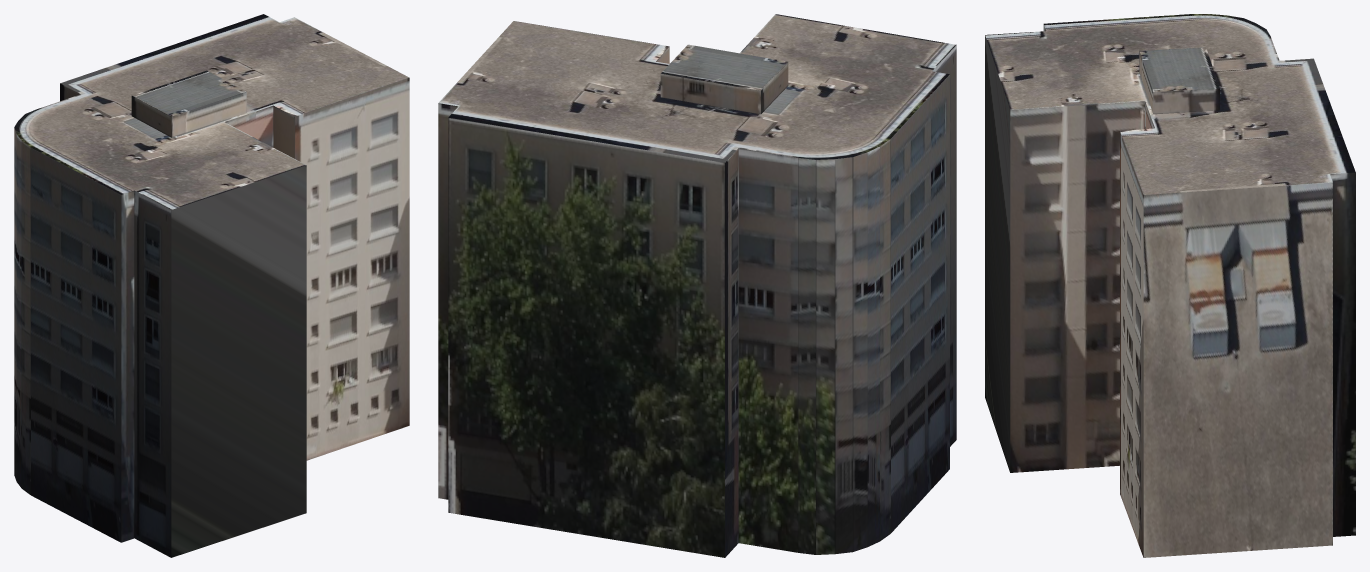
The picture shows the model from 3 angles, left to right: view 1: azimuth 30°, elevation 25°; view 2: azimuth 150°, elevation 25°; view 3: azimuth 270°, elevation 25°; orthographic projection. The views are drawn at different scales.
Parts seen in each view (by area): view 1: Z_UP; view 2: Z_UP; view 3: Z_UP.
Boxes of the visible parts, x1=… form: Z_UP: x1=14, y1=14, x2=409, y2=557; Z_UP: x1=438, y1=14, x2=956, y2=557; Z_UP: x1=985, y1=14, x2=1355, y2=557.
Bounding box in the file's own units: 24.62 × 24.43 × 21.31.
2 materials, 1 textured.
